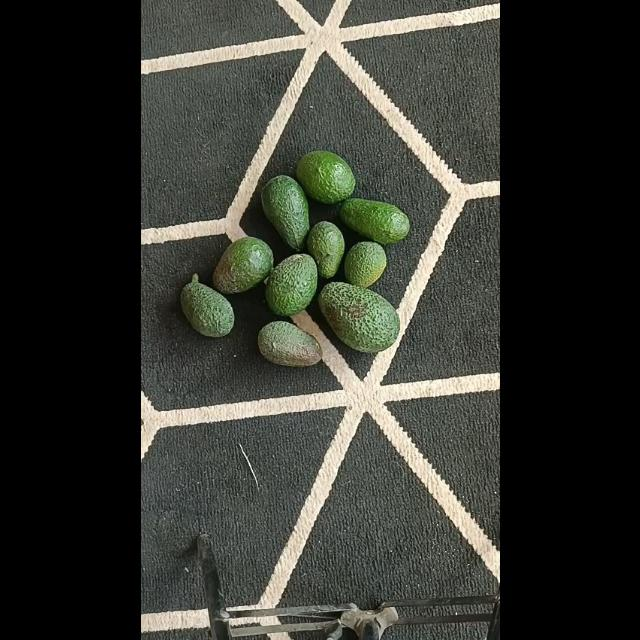Primera: (317, 280, 398, 352)
Segunda: (259, 174, 309, 250), (337, 198, 409, 245), (212, 237, 272, 293), (266, 254, 318, 316), (295, 150, 355, 203)
Tercera: (179, 281, 233, 337), (257, 320, 321, 366), (305, 221, 343, 277), (342, 242, 386, 288)
